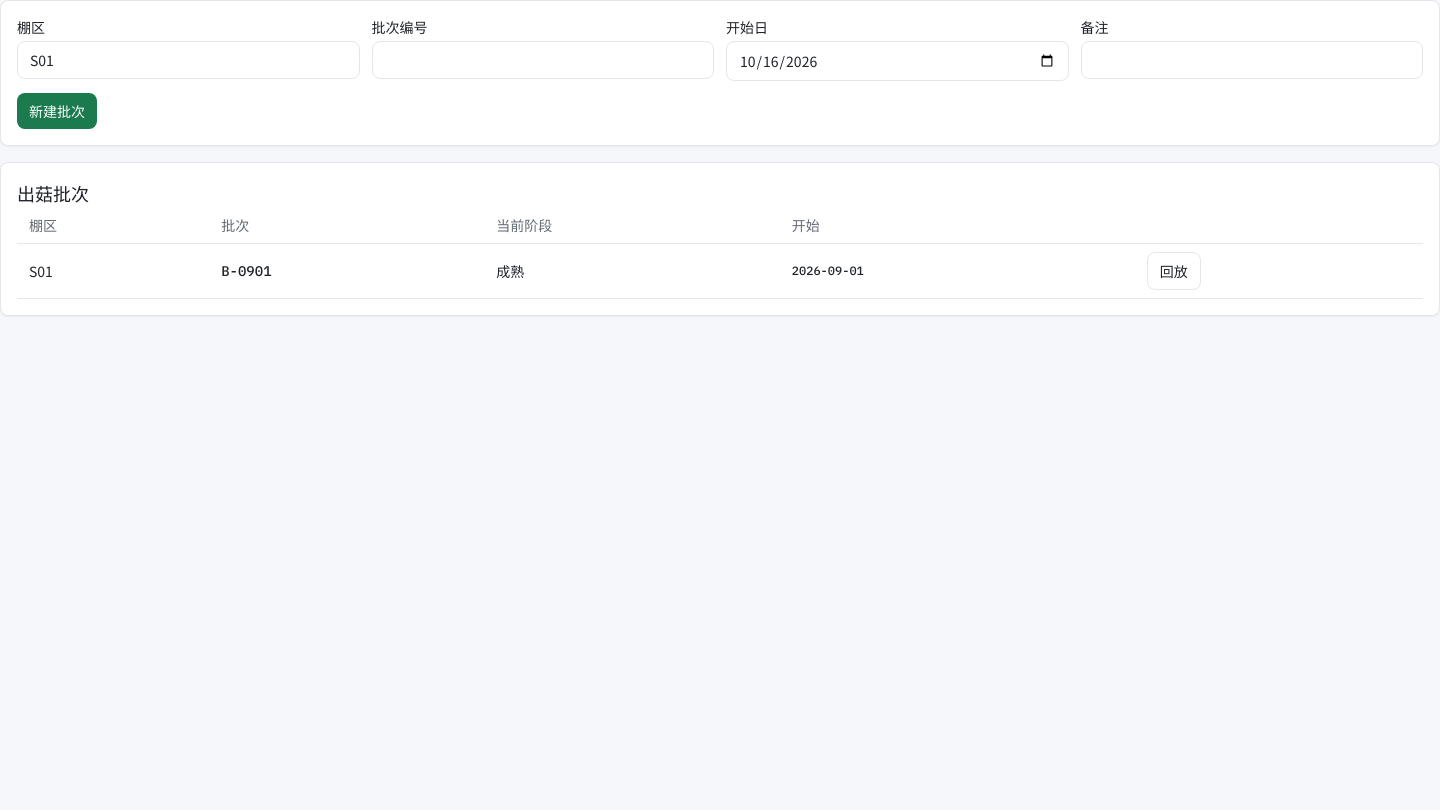
Test: BatchesView › creates a batch and replays phases with the bucket curve
Type "B-0901" into the field labelled "批次编号" at (543, 60), box [372, 41, 714, 79]
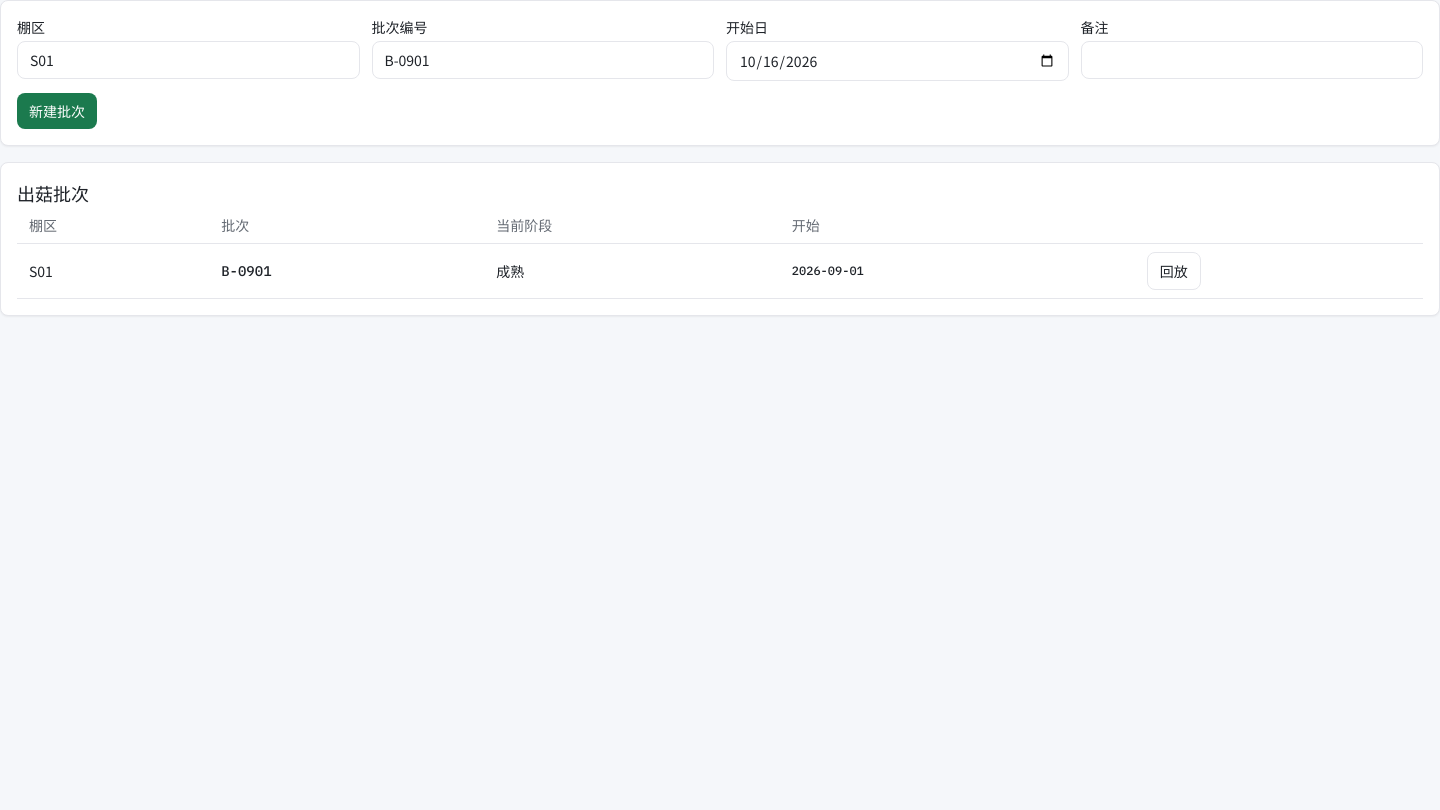
Submit the form, box [0, 0, 1439, 146]
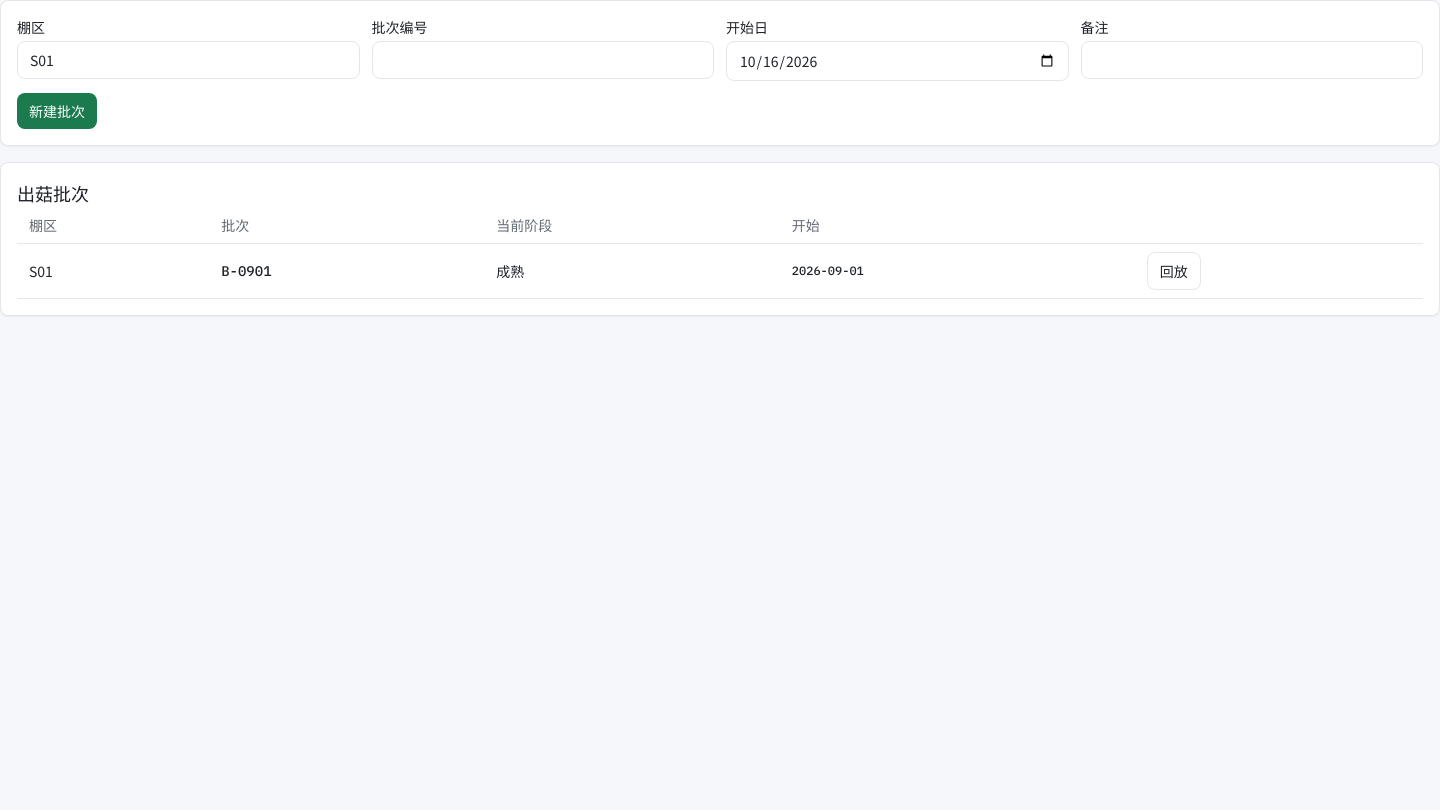
Expected: the text "B-0901" is shown, [209, 244, 484, 298]
Expected: the text "成熟" is shown, [484, 244, 780, 298]
Click the button with class "btn-ghost" at (1174, 271), box [1147, 252, 1201, 290]
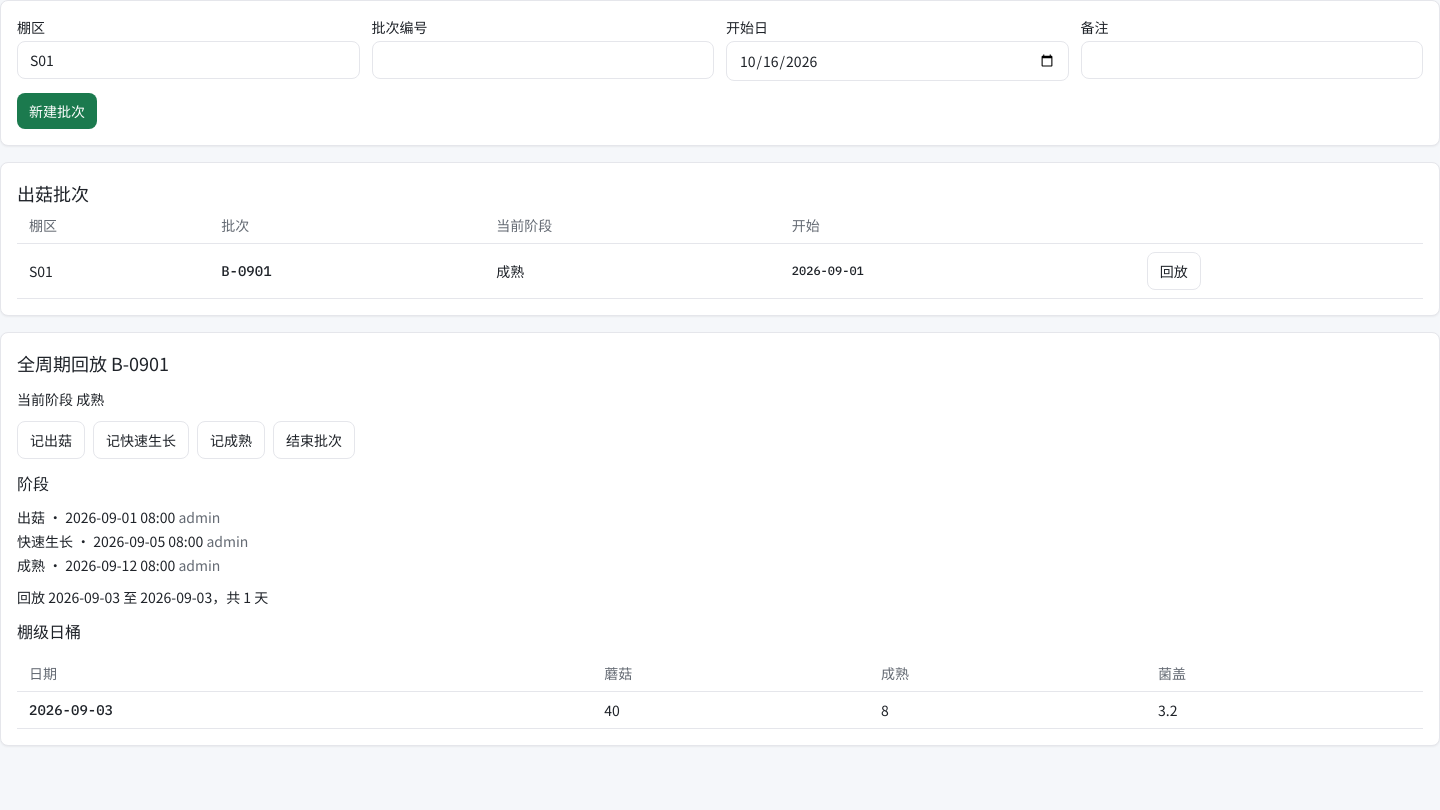
Expected: the element with test id "batch-replay" shows "出菇", [17, 507, 178, 527]
Expected: the element with test id "batch-replay" shows "快速生长", [17, 531, 206, 551]
Expected: the element with test id "batch-replay" shows "成熟", [881, 663, 909, 683]
